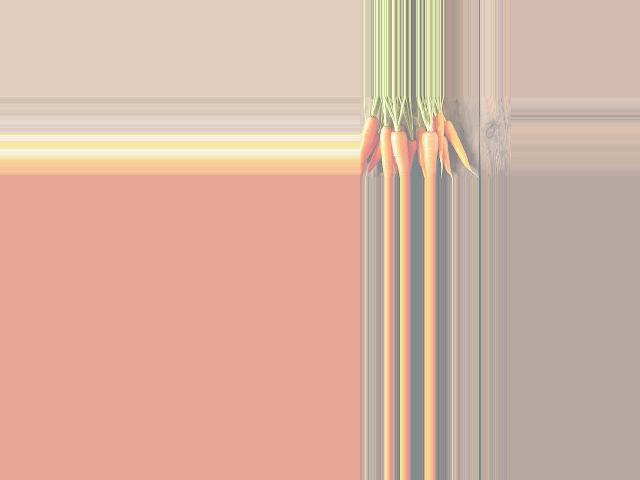carrot: (462, 113, 505, 209)
